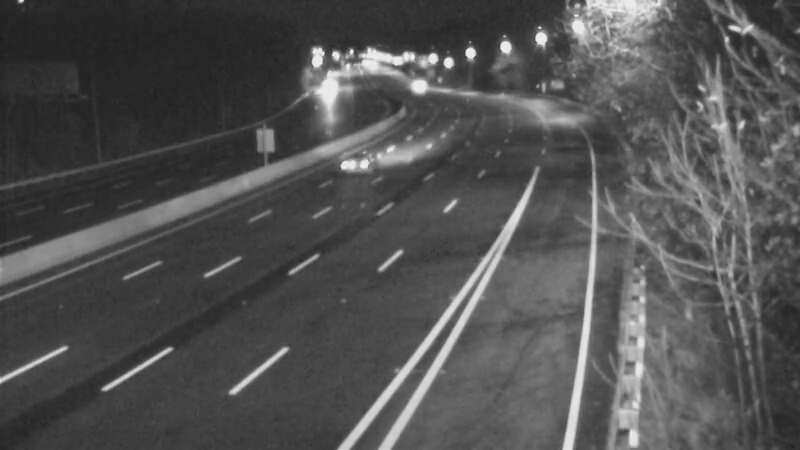vehicle: (325, 118, 405, 198), (386, 60, 436, 110), (304, 69, 354, 119)
